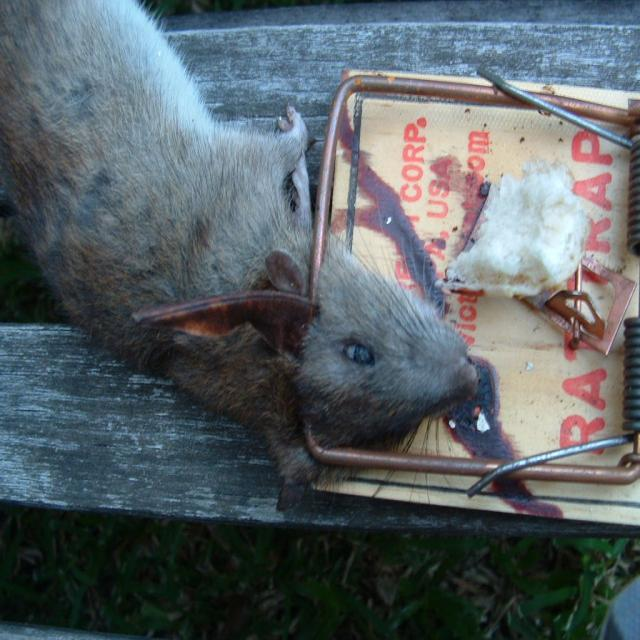rat: (0, 0, 481, 491)
